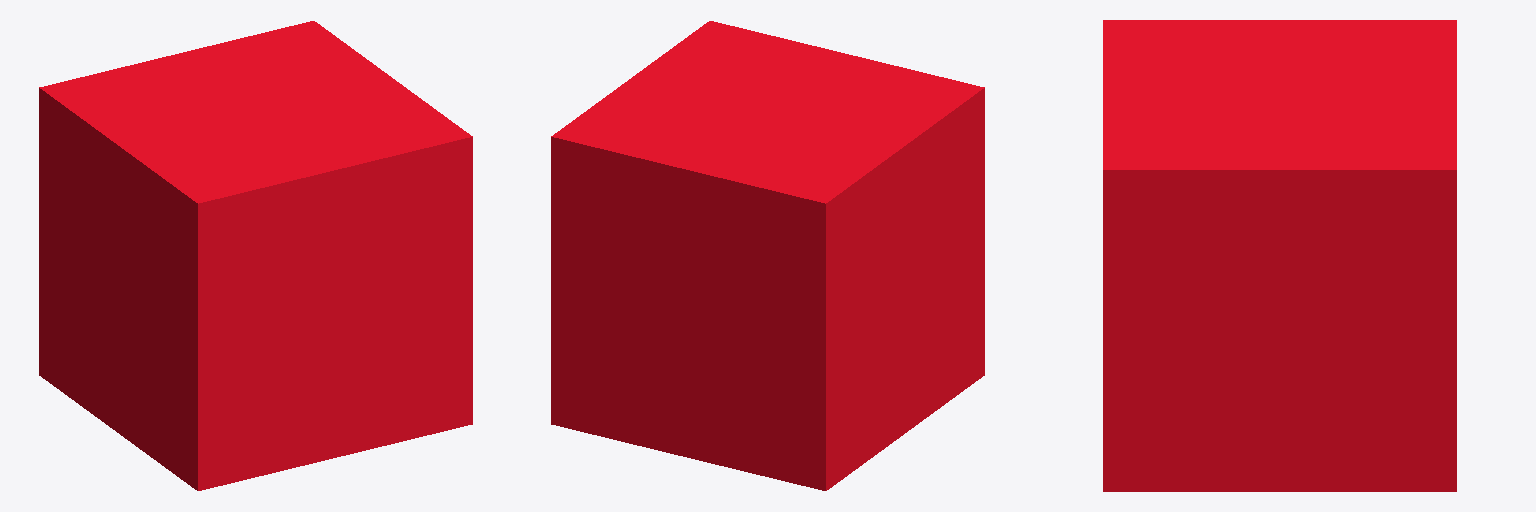
URDF robot description (barrita):
<robot name="barrita">

    <material name="red">
        <color rgba="1.0 0.1 0.20 1.0" />
    </material>

    <link name="caja">
        <inertial>
            <origin xyz="0 0 0" />
            <mass value="4.0" />
            <inertia ixx="1.0" ixy="0.0" ixz="0.0" iyy="1.0" iyz="0.0" izz="1.0" />
        </inertial>
        <visual name="">
            <origin xyz="0 0 0" rpy="0.0 0.0 0.0" />
            <geometry>
                <box size="0.5 0.5 0.5" />
            </geometry>
            <material name="red" />
        </visual>

        <collision>
            <origin xyz="0 0 0" rpy="0.0 0.0 0.0" />
            <geometry>
                <box size="0.5 0.5 0.5" />
            </geometry>
        </collision>
    </link>
</robot>

--- What the picture shows (computed from the rendered views, not written in the file) ---
The picture shows the robot from 3 angles, left to right: view 1: azimuth 30°, elevation 25°; view 2: azimuth 150°, elevation 25°; view 3: azimuth 270°, elevation 25°; orthographic projection.
Model barrita with 1 links and 0 joints (none), rooted at caja, posed all joints at 0.
Visible links, largest first — view 1: caja; view 2: caja; view 3: caja.
Link boxes in pixels (x1,y1,x2,y2): caja: (39, 21, 472, 490); caja: (551, 21, 984, 490); caja: (1103, 20, 1456, 491).
Size in the robot's own frame: 0.5 by 0.5 by 0.5 metres.
Geometry: primitives only (box / cylinder / sphere), no mesh files.